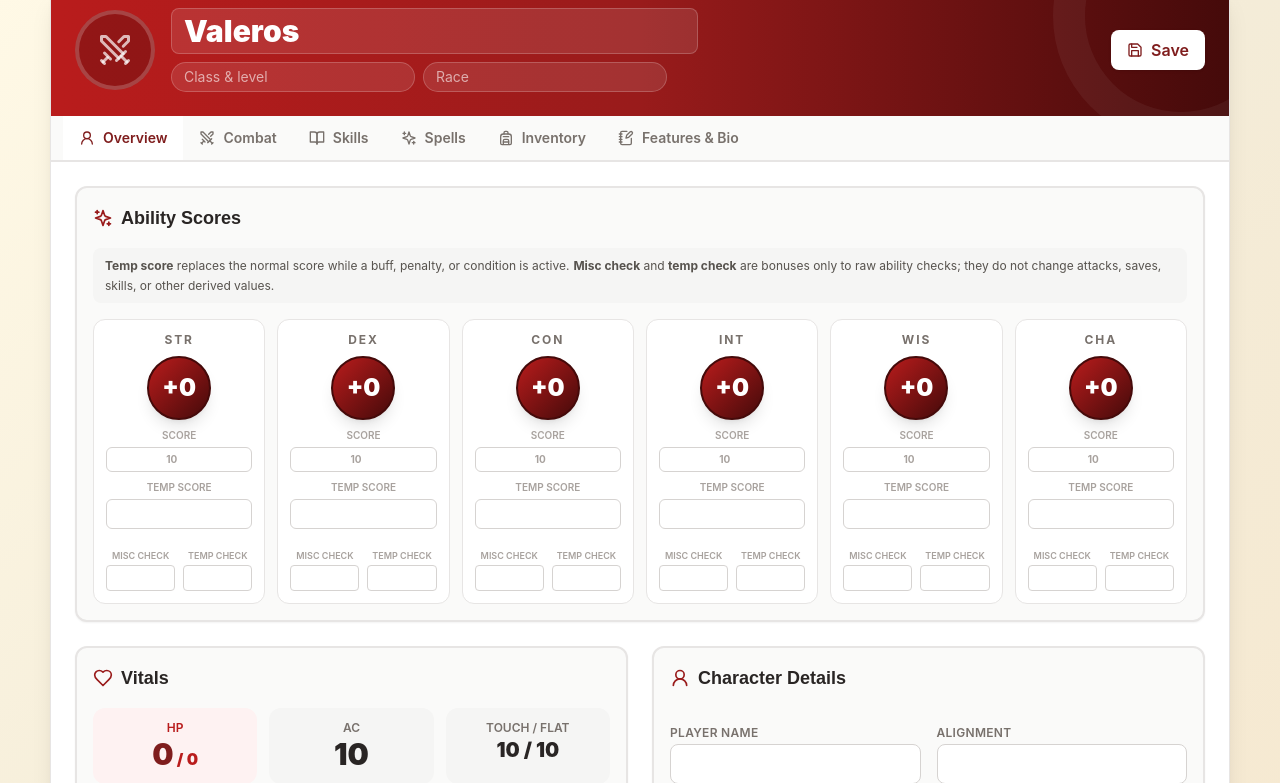
it: Pathfinder1eCharacterSheet › searches and fills character spells from Archives of Nethys
Click the button "Spells" at (433, 139), box top-left (385, 116), bottom-right (482, 162)
(page scrolled)
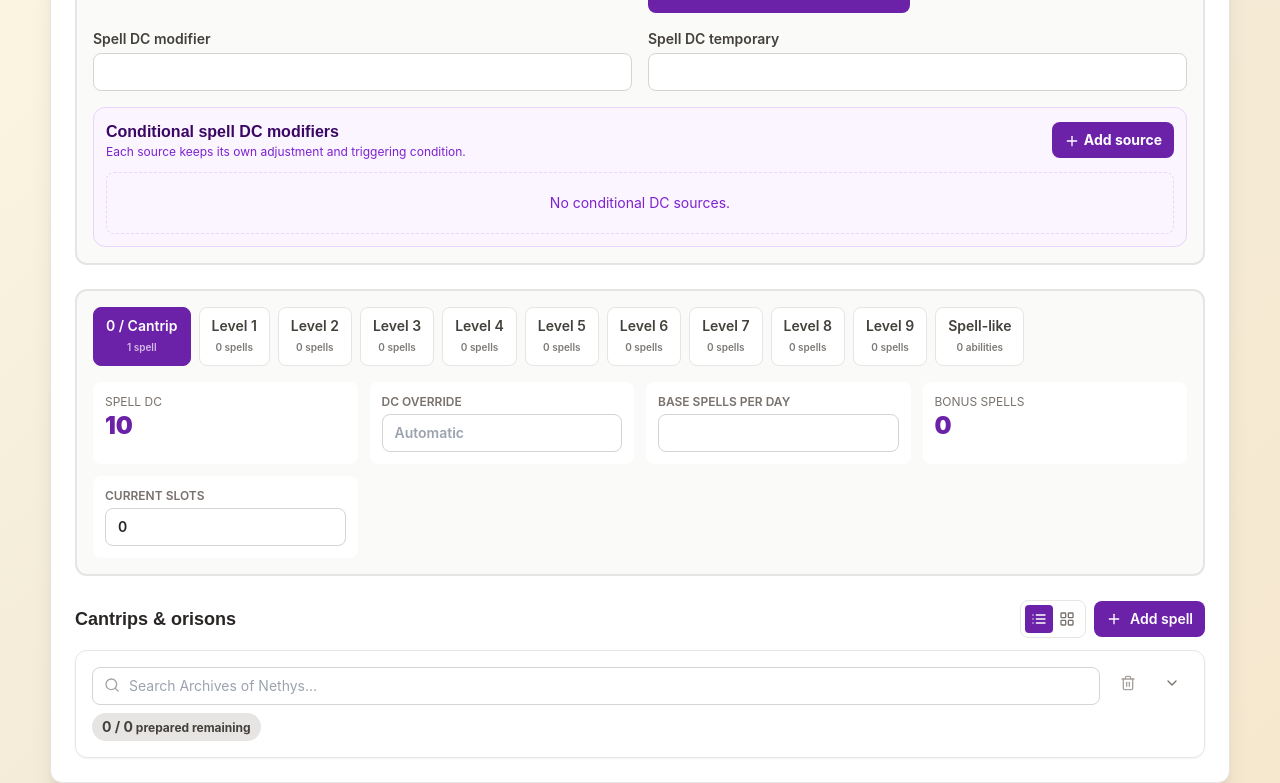
Type "Fire" into the field with placeholder "Search Archives of Nethys…" at (596, 686), box top-left (92, 667), bottom-right (1100, 705)
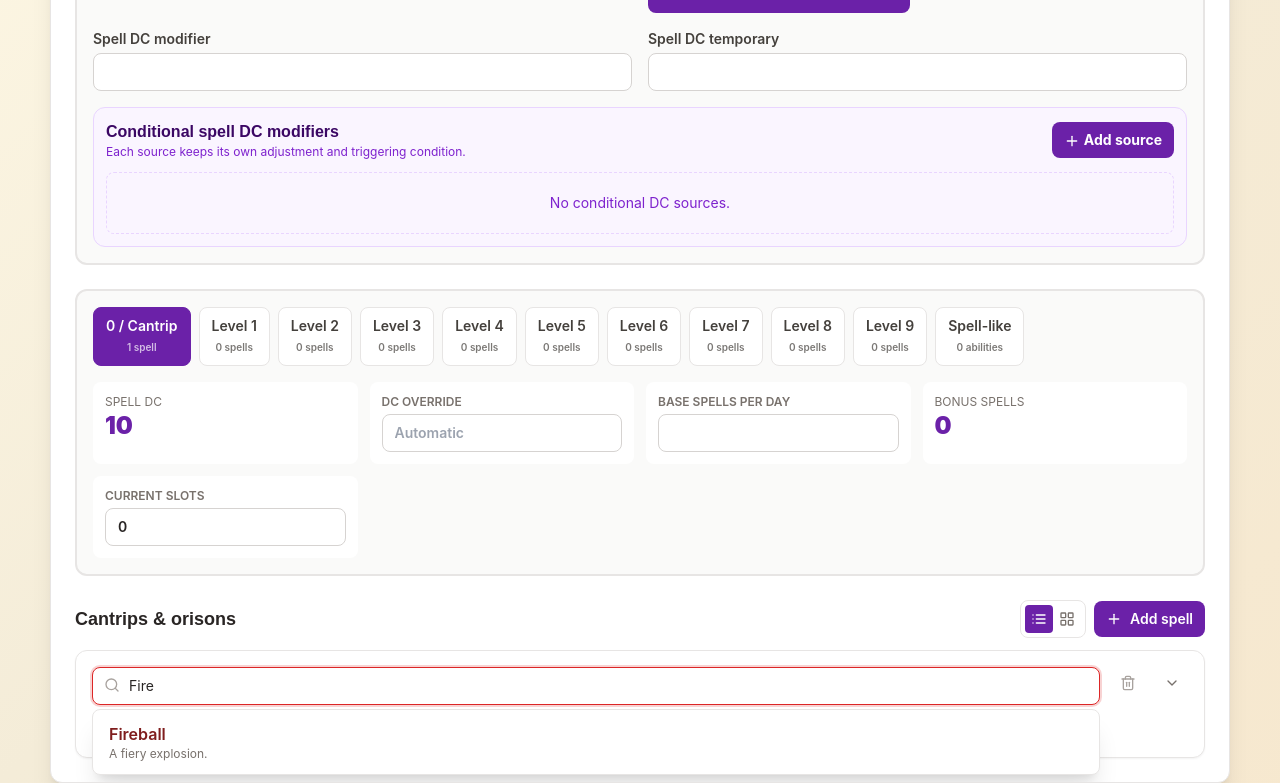
Type "ball" into the field with placeholder "Search Archives of Nethys…" at (596, 686), box top-left (92, 667), bottom-right (1100, 705)
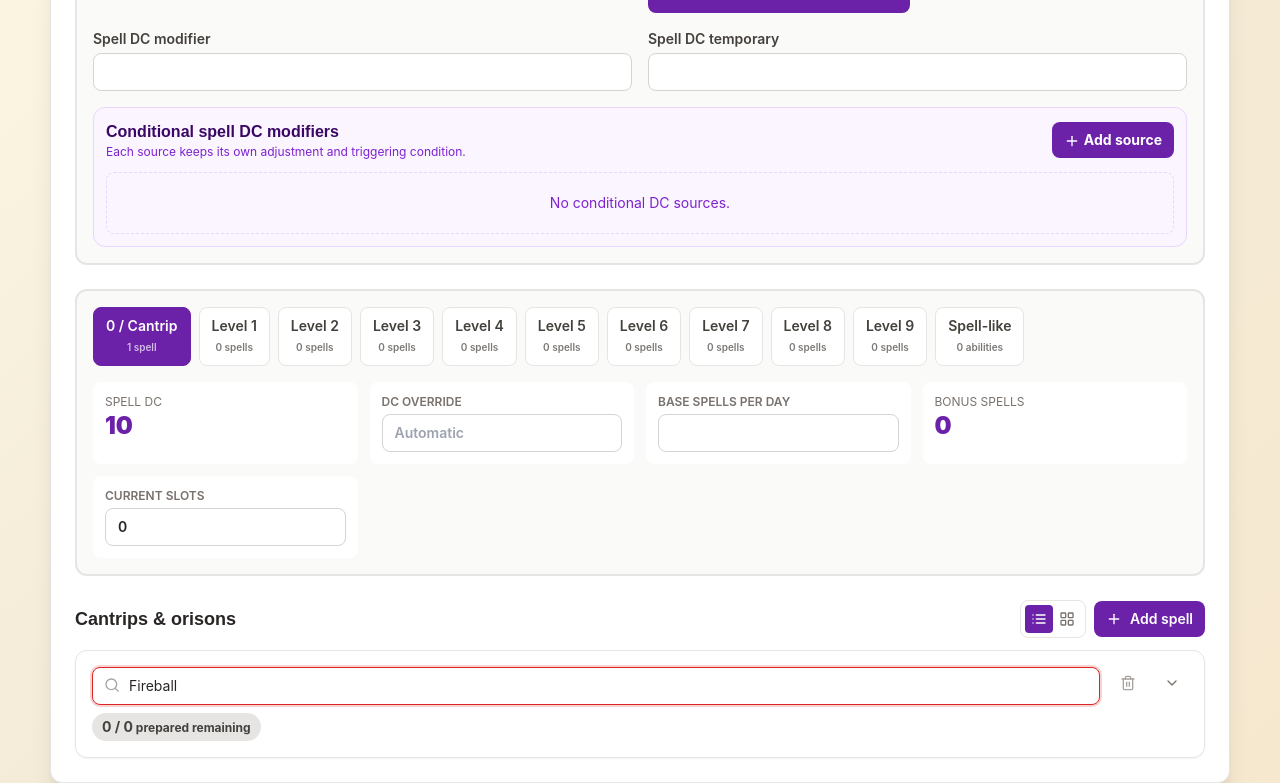
Click the button named "Open Fireball details" at (1172, 683), box top-left (1156, 667), bottom-right (1188, 699)
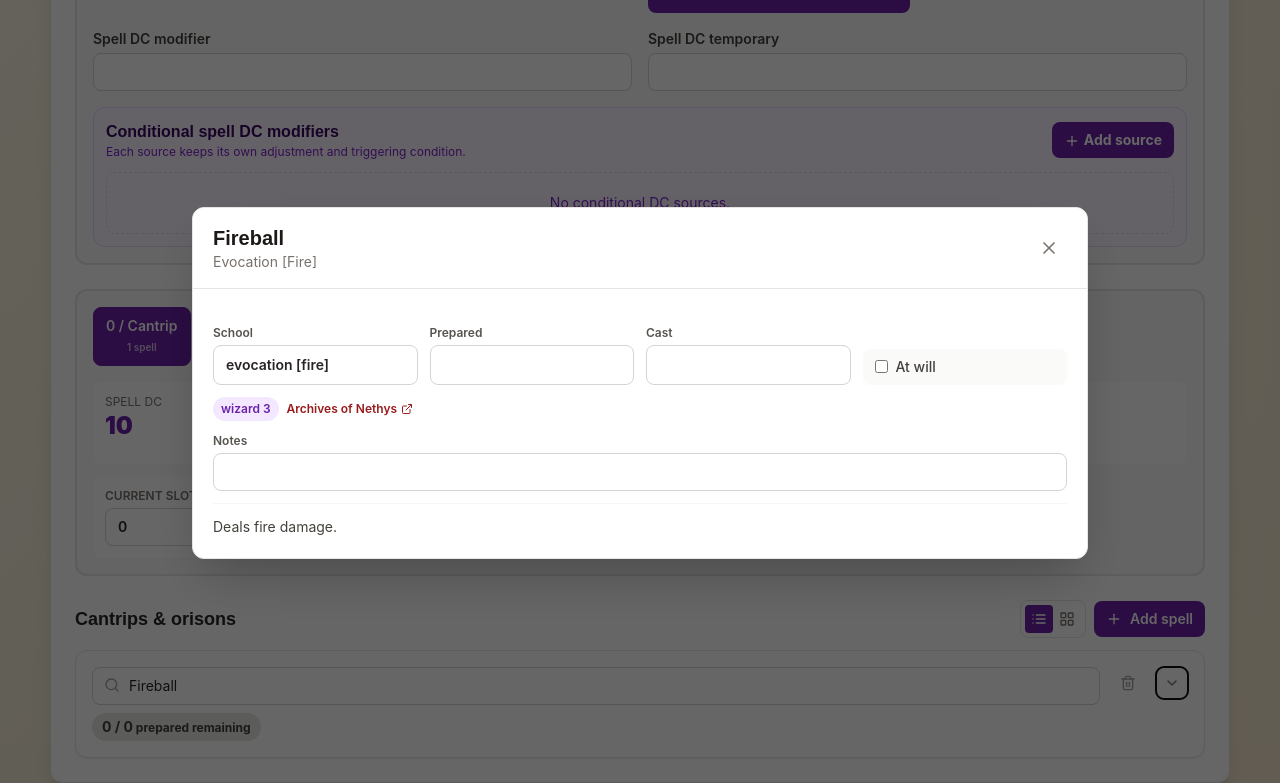
Expected: the field showing "evocation [fire]" is shown, top-left (213, 345), bottom-right (418, 385)
Expected: the text "Deals fire damage." is shown, top-left (213, 518), bottom-right (337, 535)
